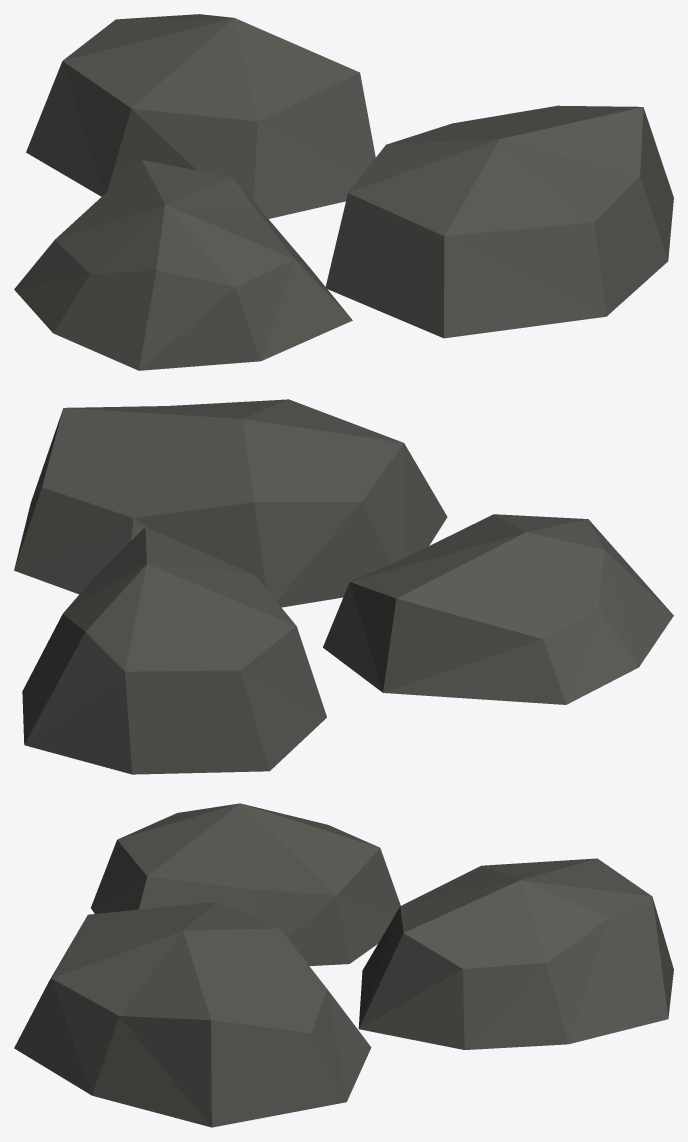
The model's file is S_Stone_02.fbx.
The picture shows the model from 3 angles, top to bottom: view 1: azimuth 30°, elevation 25°; view 2: azimuth 150°, elevation 25°; view 3: azimuth 270°, elevation 25°; orthographic projection. The views are drawn at different scales.
Visible parts, largest first — view 1: S_Stone_02; view 2: S_Stone_02; view 3: S_Stone_02.
Part boxes in pixels (bbox=[...]): S_Stone_02: bbox=[14, 14, 673, 370]; S_Stone_02: bbox=[14, 399, 673, 774]; S_Stone_02: bbox=[14, 803, 673, 1127].
Size of the model in its own units: 126 by 25.44 by 126.
1 material, 1 textured.
